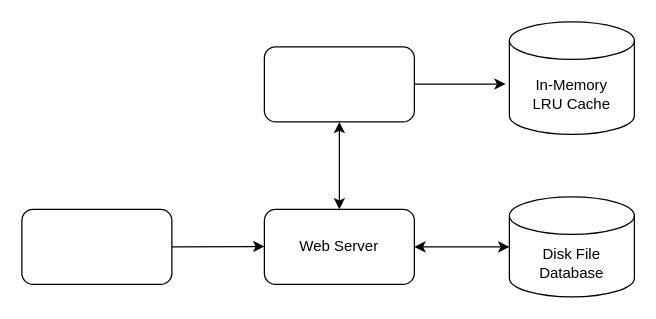
The diagram is 656 pixels wide and 319 high, and some of its shapes have lost their labels. Here are the shapes that lost their labels. From the top down, the centre of each, then its label:
At [338,84]: "Cache Server".
At [96,246]: "HTTP Client".
